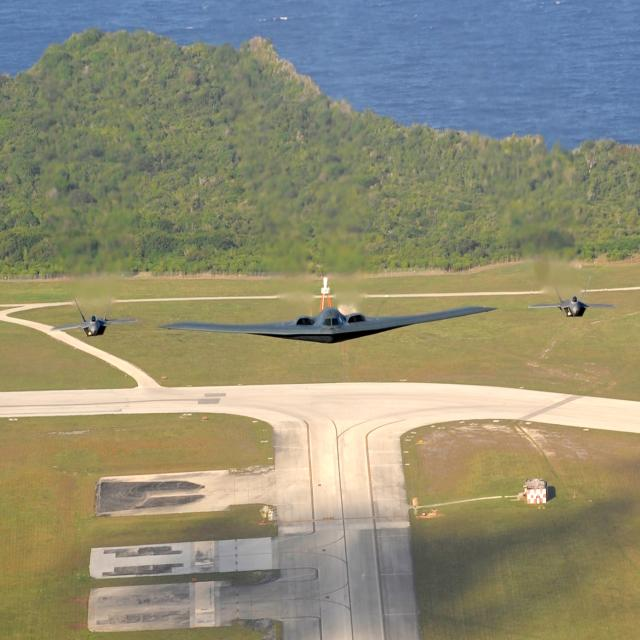MIL_Plane: (163, 306, 493, 344), (50, 294, 139, 337), (528, 276, 618, 317)
